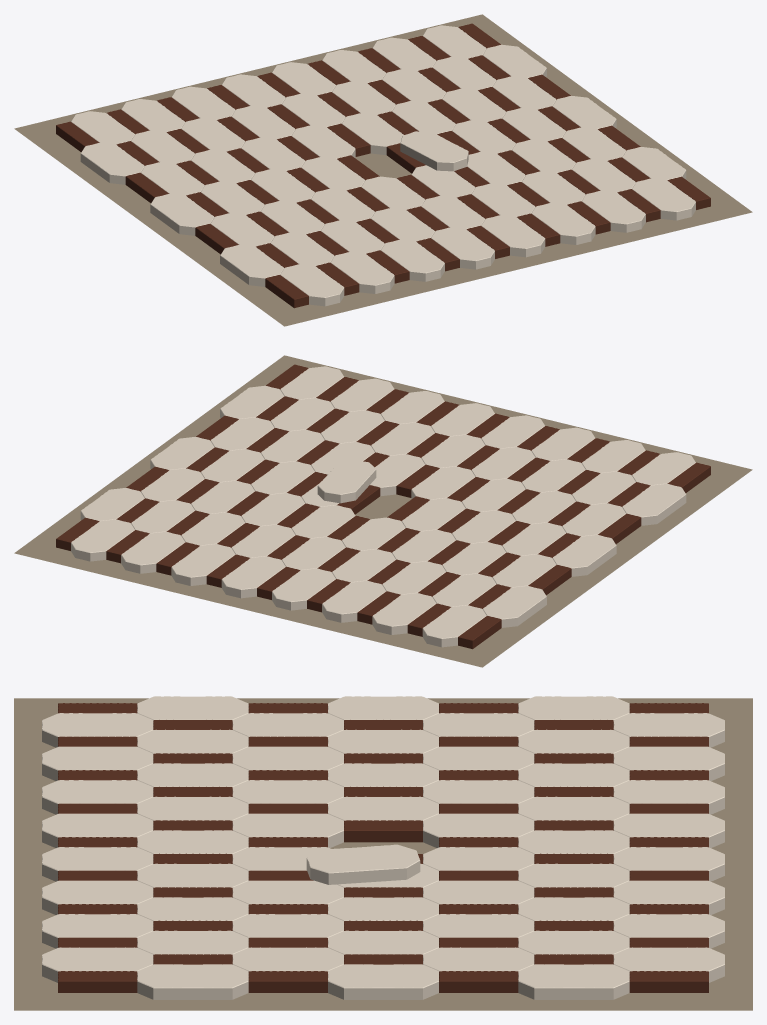
Rendered from terilgan.glb.
3 renders of one model, top to bottom at view 1: azimuth 30°, elevation 25°; view 2: azimuth 150°, elevation 25°; view 3: azimuth 270°, elevation 25°, orthographic. The views are drawn at different scales.
Visible parts, largest first — view 1: qum, t.062, t.016, t.002, t.007, t.082, t.026, t.054, t.004, t.096, t.013, t.068 (+60 smaller); view 2: qum, t.062, t.002, t.016, t.007, t.109, t.056, t.084, t.028, t.116, t.042, t.098 (+61 smaller); view 3: qum, t.062, t.108, t.118, t.115, t.013, t.042, t.040, t.050, t.060, t.070, t.068 (+107 smaller).
Boxes of the visible parts, <box> form: qum: <box>14,14,752,326</box>; t.062: <box>400,131,468,171</box>; t.016: <box>80,143,144,184</box>; t.002: <box>220,245,284,286</box>; t.007: <box>150,194,214,235</box>; t.082: <box>581,190,645,232</box>; t.026: <box>380,240,444,281</box>; t.054: <box>481,215,545,257</box>; t.004: <box>280,264,344,306</box>; t.096: <box>632,178,695,220</box>; t.013: <box>330,252,394,293</box>; t.068: <box>531,203,595,244</box>; qum: <box>14,355,752,667</box>; t.062: <box>317,460,376,503</box>; t.002: <box>622,484,686,525</box>; t.016: <box>482,586,546,627</box>; t.007: <box>552,535,616,576</box>; t.109: <box>121,531,185,573</box>; t.056: <box>322,581,386,622</box>; t.084: <box>221,556,285,598</box>; t.028: <box>422,605,486,647</box>; t.116: <box>71,519,134,561</box>; t.042: <box>372,593,436,634</box>; t.098: <box>171,544,235,585</box>; qum: <box>14,698,752,1010</box>; t.062: <box>306,844,420,884</box>; t.108: <box>137,964,248,999</box>; t.118: <box>518,964,629,999</box>; t.115: <box>328,964,438,999</box>; t.013: <box>42,746,153,780</box>; t.042: <box>613,746,724,780</box>; t.040: <box>42,813,153,847</box>; t.050: <box>232,813,343,847</box>; t.060: <box>423,813,534,847</box>; t.070: <box>613,813,724,847</box>; t.068: <box>42,880,153,914</box>.
Size of the model in its own units: 1.66 by 0.062 by 1.66.
